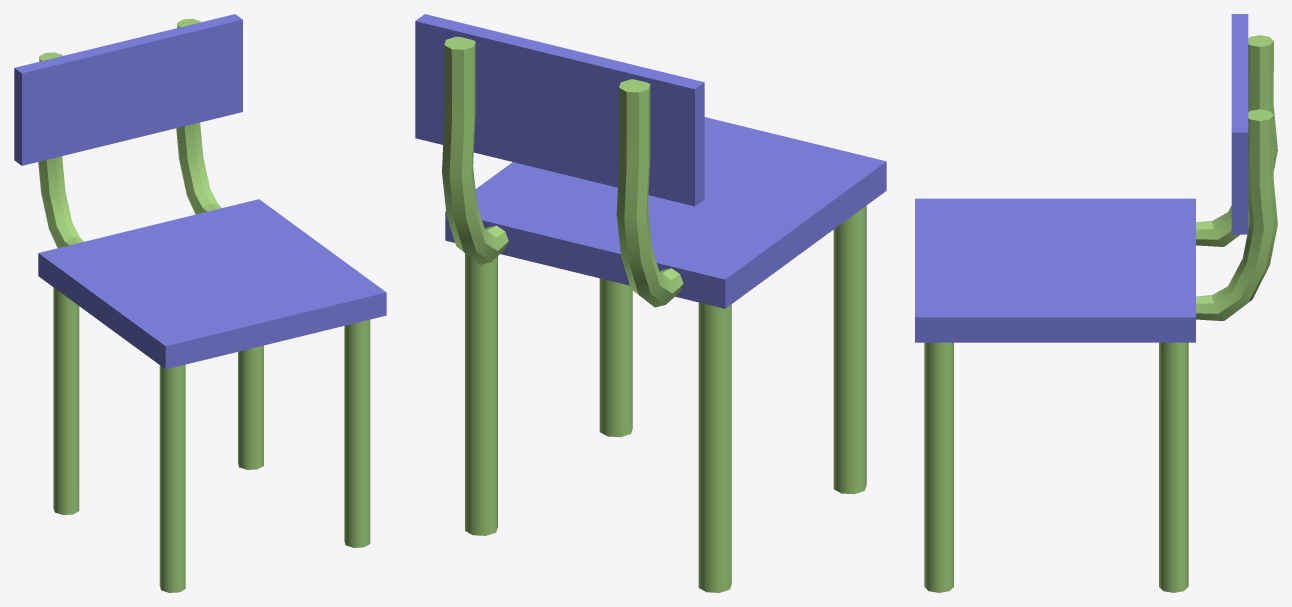
File: Chair.fbx
3 views of the same model, side by side, from view 1: azimuth 30°, elevation 25°; view 2: azimuth 150°, elevation 25°; view 3: azimuth 270°, elevation 25° (orthographic). The views are drawn at different scales.
Parts seen in each view (by area): view 1: Chair; view 2: Chair; view 3: Chair.
Part boxes in pixels (box(x1,y1,x2,y2)): Chair: box(14, 14, 386, 592); Chair: box(415, 14, 886, 592); Chair: box(915, 14, 1277, 592).
Size of the model in its own units: 50.01 by 91.12 by 64.61.
